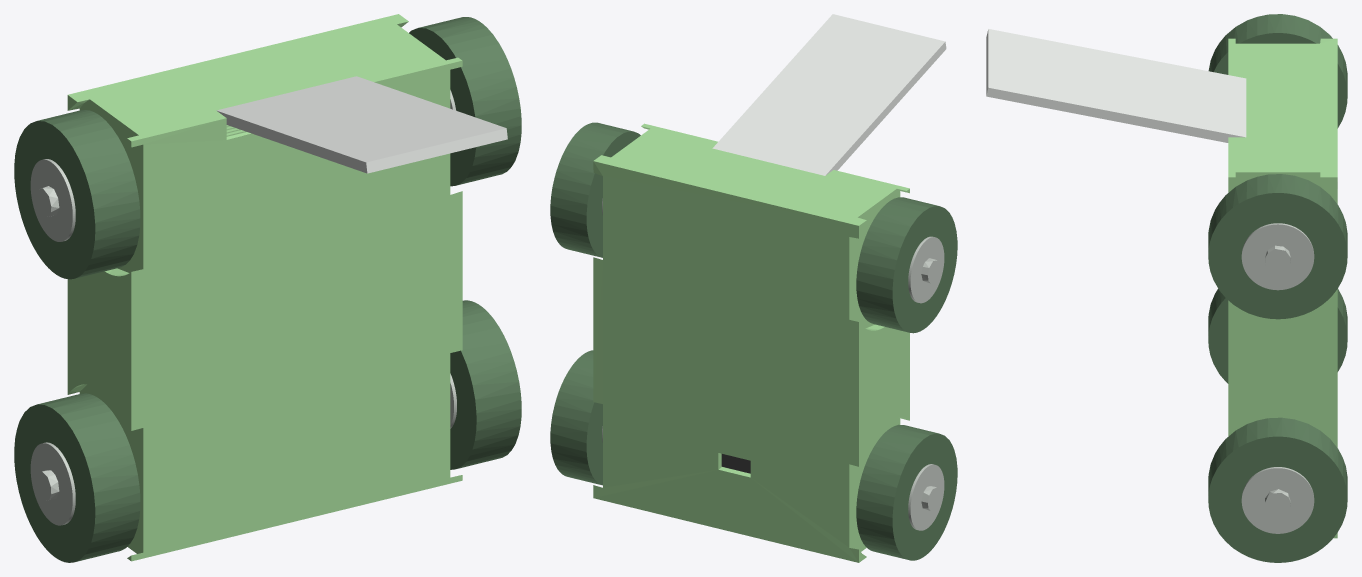
File: step_up.glb
3 views of the same model, side by side, from view 1: azimuth 30°, elevation 25°; view 2: azimuth 150°, elevation 25°; view 3: azimuth 270°, elevation 25° (orthographic). The views are drawn at different scales.
Parts seen in each view (by area): view 1: chassis, lifter, wheel_r0, wheel_r1, wheel_l1, wheel_l0, dt_hub_wheel_r0, dt_hub_wheel_r1; view 2: chassis, lifter, wheel_r0, wheel_r1, wheel_l1, wheel_l0, dt_hub_wheel_r0, dt_hub_wheel_r1; view 3: chassis, lifter, wheel_l1, wheel_l0, dt_hub_wheel_l1, dt_hub_wheel_l0, wheel_r1, wheel_r0.
Boxes of the visible parts, x1,y1,x2,y2 form: chassis: [67, 14, 462, 561]; lifter: [216, 76, 507, 173]; wheel_r0: [14, 393, 140, 562]; wheel_r1: [14, 110, 140, 279]; wheel_l1: [409, 17, 521, 186]; wheel_l0: [450, 300, 521, 469]; dt_hub_wheel_r0: [30, 442, 75, 525]; dt_hub_wheel_r1: [30, 159, 75, 241]; chassis: [593, 123, 909, 562]; lifter: [712, 14, 946, 175]; wheel_r0: [856, 424, 957, 560]; wheel_r1: [856, 197, 957, 333]; wheel_l1: [550, 122, 640, 257]; wheel_l0: [550, 350, 602, 485]; dt_hub_wheel_r0: [908, 464, 944, 530]; dt_hub_wheel_r1: [908, 236, 944, 303]; chassis: [1228, 38, 1337, 538]; lifter: [986, 29, 1246, 142]; wheel_l1: [1208, 174, 1347, 319]; wheel_l0: [1208, 417, 1347, 562]; dt_hub_wheel_l1: [1241, 223, 1314, 290]; dt_hub_wheel_l0: [1241, 467, 1314, 533]; wheel_r1: [1208, 14, 1347, 128]; wheel_r0: [1208, 289, 1347, 383].
Size of the model in its own units: 89.4 by 92.01 by 72.57.
